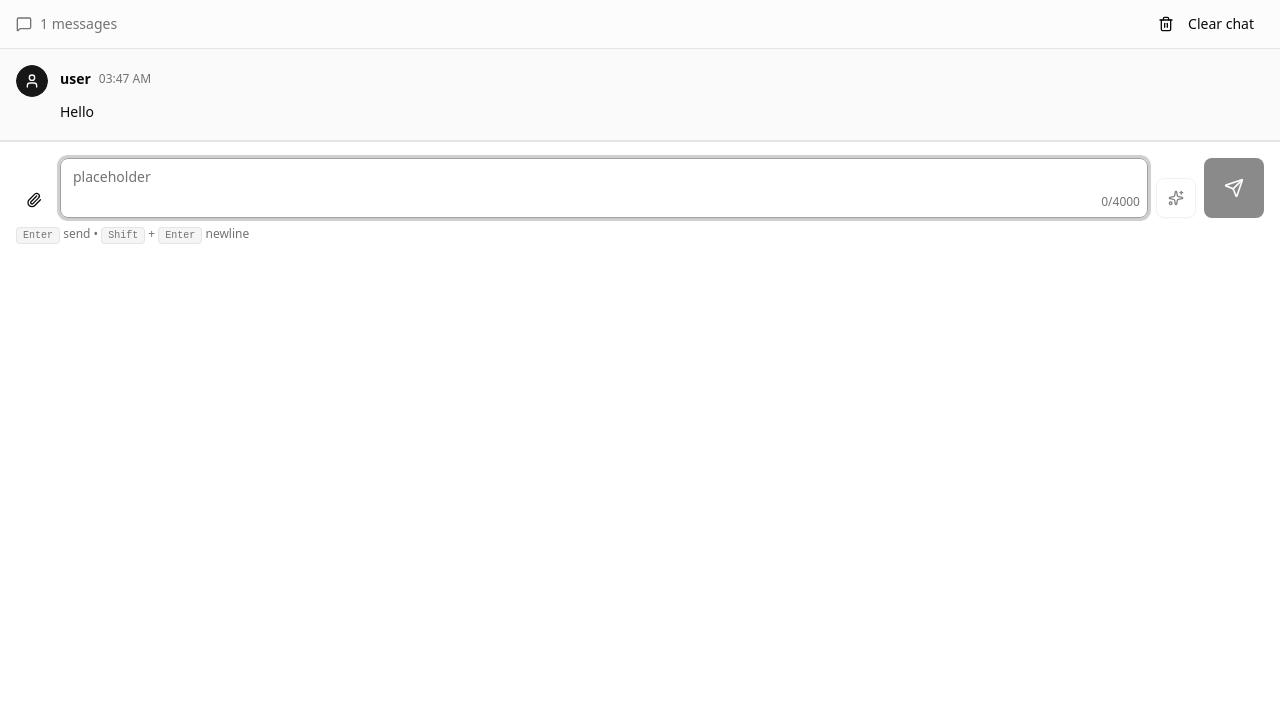
it: ChatInterface › opens confirmation dialog when clear button is clicked
Click the button "Clear chat" at (1206, 24), box [1148, 8, 1264, 40]
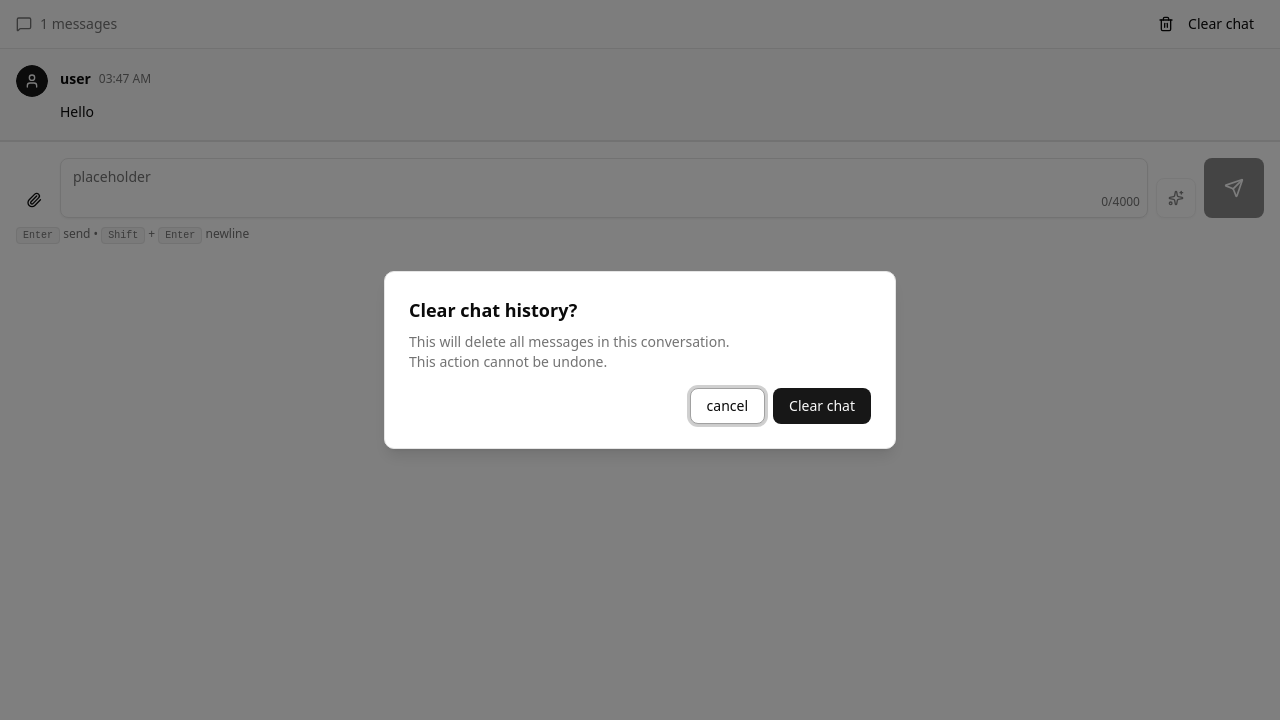
Check: the heading "Clear chat history?" is shown, box [409, 298, 577, 322]
Check: the text "This will delete all messages" is shown, box [409, 332, 730, 351]
